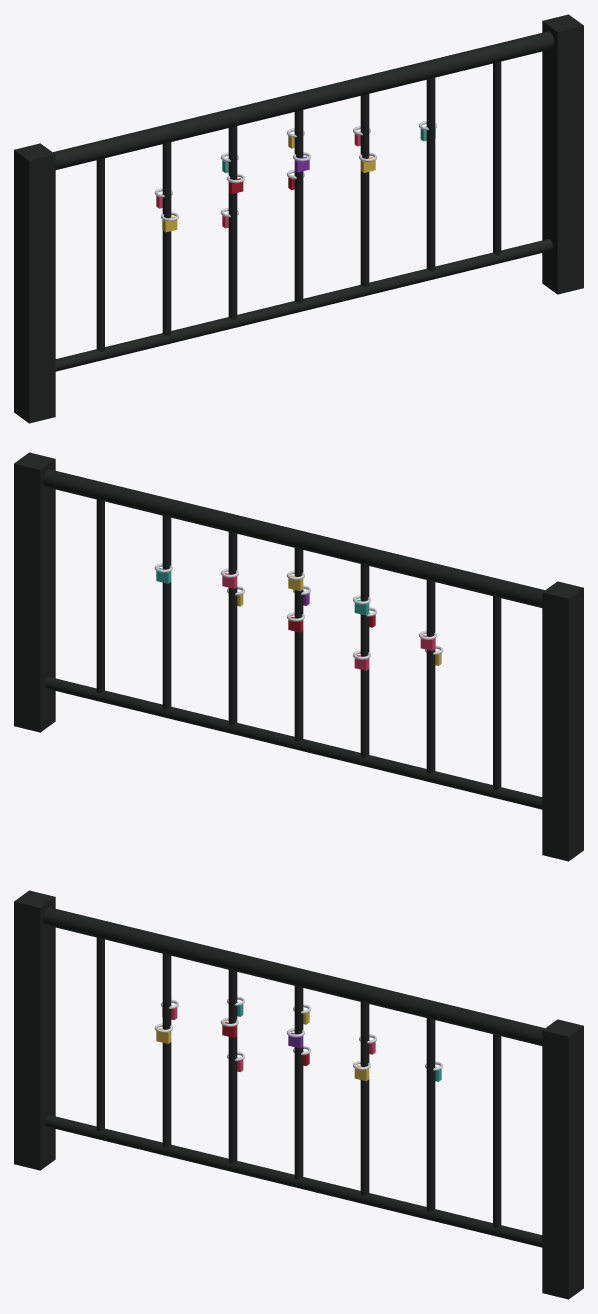
The model's file is heart-lock-railing.glb.
3 views of the same model, one above another, from view 1: azimuth 30°, elevation 25°; view 2: azimuth 150°, elevation 25°; view 3: azimuth 330°, elevation 25° (orthographic).
Visible parts, largest first — view 1: Cube, Cube.001, Cylinder, Cylinder.001, Cylinder.007, Cylinder.003, Cylinder.006, Cylinder.005, Cylinder.004, Cylinder.008, Cylinder.002; view 2: Cube, Cube.001, Cylinder, Cylinder.001, Cylinder.007, Cylinder.003, Cylinder.006, Cylinder.008, Cylinder.002, Cylinder.005, Cylinder.004; view 3: Cube.001, Cube, Cylinder, Cylinder.001, Cylinder.007, Cylinder.003, Cylinder.006, Cylinder.005, Cylinder.004, Cylinder.002, Cylinder.008.
Part boxes in pixels (box(x1,y1,x2,y2)): Cube: box(14, 143, 55, 423); Cube.001: box(542, 14, 583, 294); Cylinder: box(53, 31, 554, 169); Cylinder.001: box(55, 239, 552, 371); Cylinder.007: box(426, 77, 435, 271); Cylinder.003: box(162, 142, 171, 335); Cylinder.006: box(360, 94, 369, 287); Cylinder.005: box(294, 110, 303, 303); Cylinder.004: box(228, 126, 237, 319); Cylinder.008: box(493, 61, 501, 255); Cylinder.002: box(96, 158, 104, 351); Cube: box(542, 581, 583, 861); Cube.001: box(14, 452, 55, 732); Cylinder: box(43, 469, 544, 607); Cylinder.001: box(45, 677, 542, 809); Cylinder.007: box(162, 515, 171, 709); Cylinder.003: box(426, 580, 435, 773); Cylinder.006: box(228, 532, 237, 725); Cylinder.008: box(96, 499, 104, 693); Cylinder.002: box(493, 596, 501, 789); Cylinder.005: box(294, 548, 303, 741); Cylinder.004: box(360, 564, 369, 757); Cube.001: box(542, 1019, 583, 1299); Cube: box(14, 890, 55, 1170); Cylinder: box(43, 907, 544, 1045); Cylinder.001: box(45, 1115, 542, 1247); Cylinder.007: box(426, 1018, 435, 1211); Cylinder.003: box(162, 953, 171, 1147); Cylinder.006: box(360, 1002, 369, 1195); Cylinder.005: box(294, 986, 303, 1179); Cylinder.004: box(228, 970, 237, 1163); Cylinder.002: box(96, 937, 104, 1131); Cylinder.008: box(493, 1034, 501, 1227).
Size of the model in its own units: 2.1 by 0.95 by 0.1.
